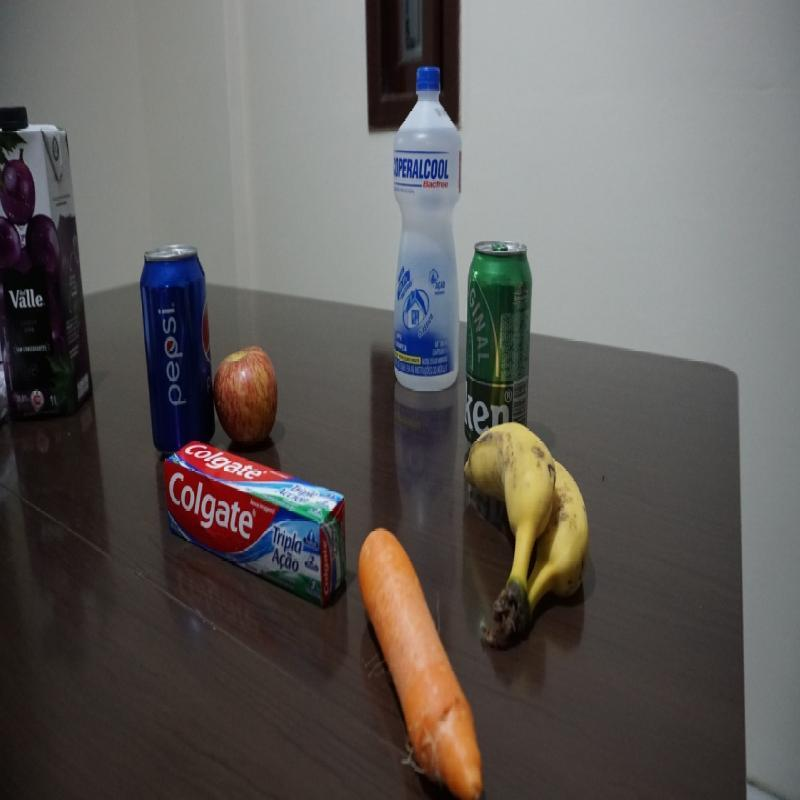Alcohol Bottle: (390, 66, 463, 394)
Apple: (215, 344, 280, 448)
Banana: (463, 419, 592, 651)
Beer can: (464, 239, 534, 444)
Carrot: (355, 527, 485, 799)
Soda can: (137, 241, 216, 462)
Toothpaste: (162, 440, 350, 608)
